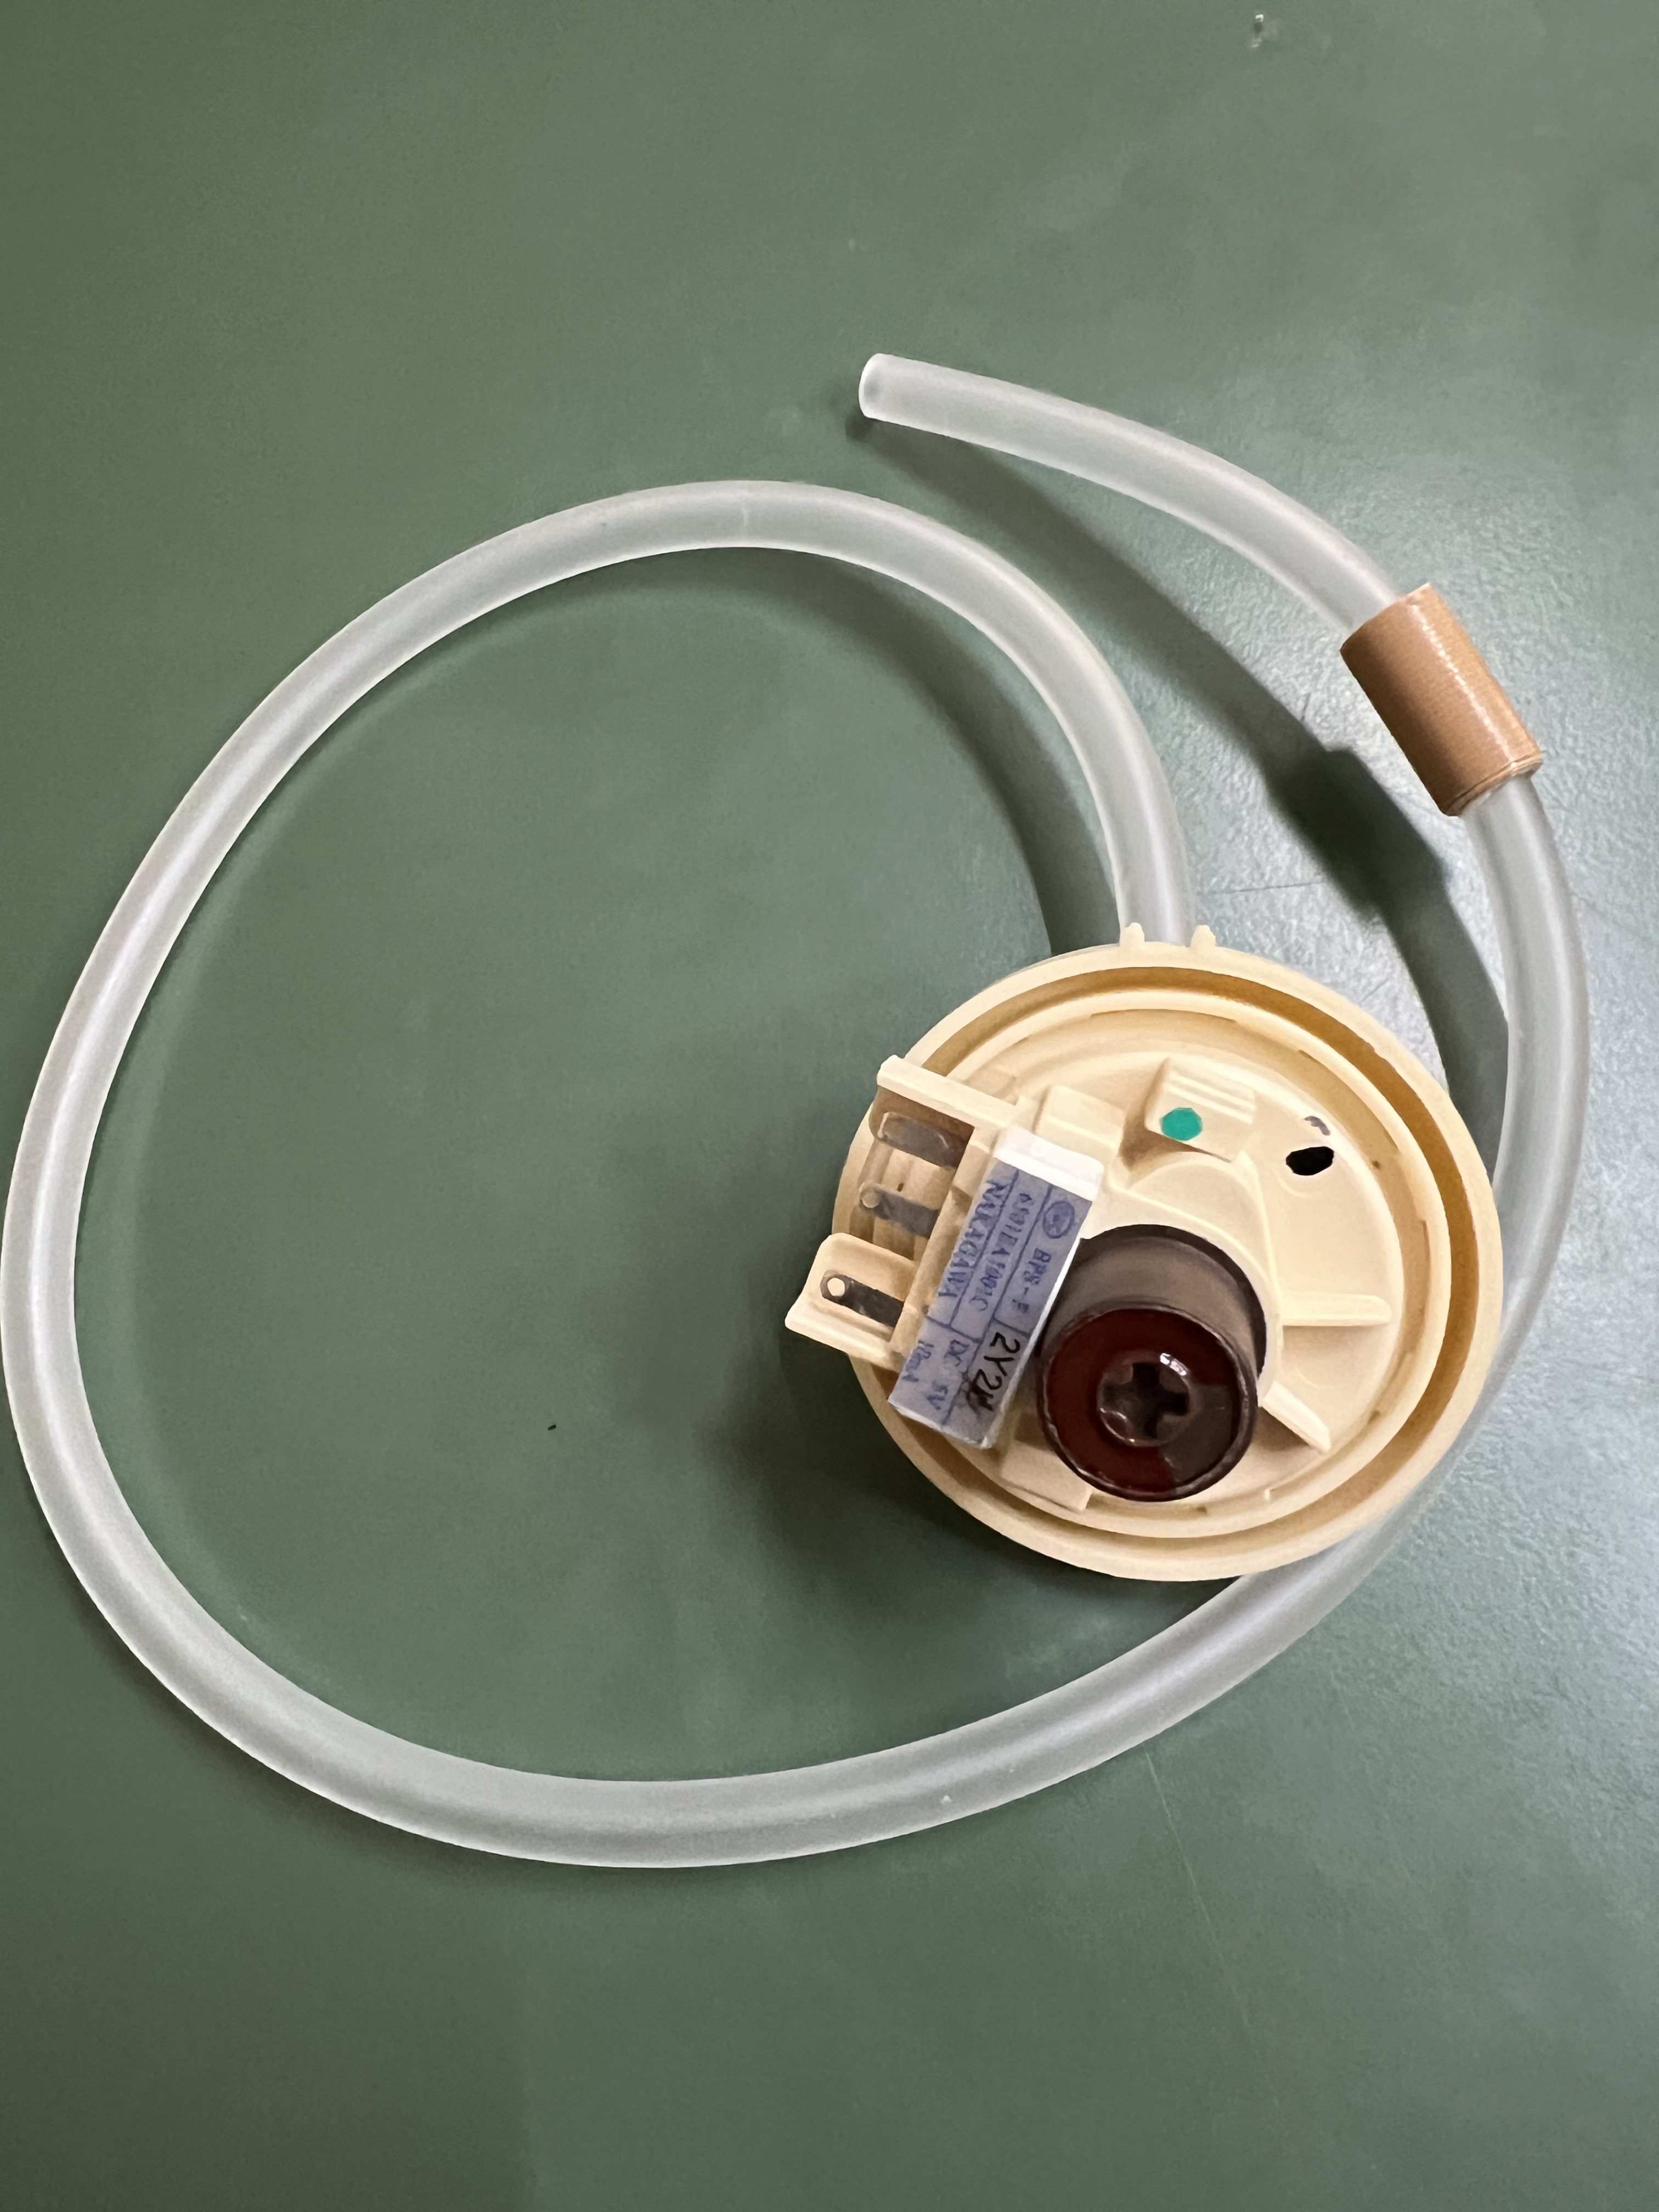pressure_sensor: (44, 336, 1659, 1862)
